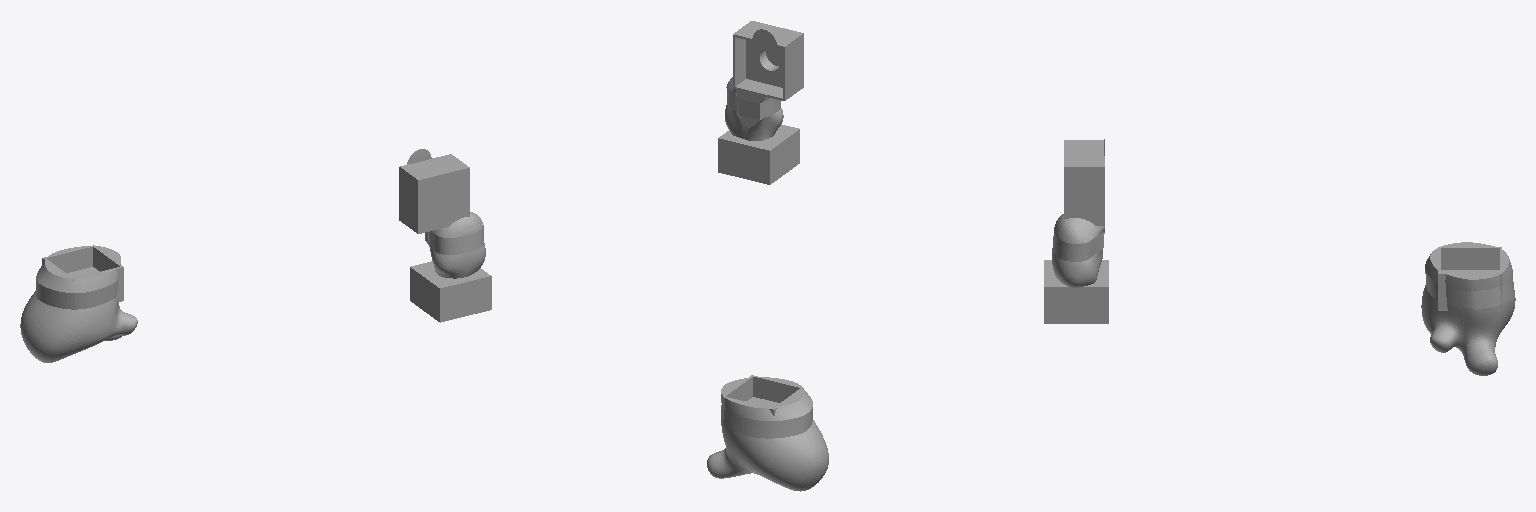
robot.urdf — FrogBot5_top-FrogBot5-x-3_bottom-FrogBot5-x-3:
<?xml version="1.0" ?>
<robot name="FrogBot5_top-FrogBot5-x-3_bottom-FrogBot5-x-3">

<material name="pla_5_percent_infill">
  <color rgba="0.700 0.700 0.700 1.000"/>
</material>

<link name="base_link">
  <inertial>
    <origin xyz="0 0 0" rpy="0 0 0"/>
    <mass value="1.4805118043364613"/>
    <inertia ixx="0.00519778244400068" iyy="0.011185972187213383" izz="0.012581059264896973" ixy="-0.0002102027550041139" iyz="-1.09064860282594e-05" ixz="-0.0008439426245005397"/>
  </inertial>
  <visual>
    <origin xyz="0 0 0" rpy="0 0 0"/>
    <geometry>
      <mesh filename="simple_meshes/base_link.stl" scale="0.001 0.001 0.001"/>
    </geometry>
    <material name="pla_5_percent_infill"/>
  </visual>
  <collision>
    <origin xyz="0 0 0" rpy="0 0 0"/>
    <geometry>
      <mesh filename="simple_meshes/base_link.stl" scale="0.001 0.001 0.001"/>
    </geometry>
  </collision>
</link>

<link name="body_1_0_1">
  <inertial>
    <origin xyz="-0.05492 -0.106321 -0.011198" rpy="0 0 0"/>
    <mass value="0.03364424865623392"/>
    <inertia ixx="2.810221627686535e-05" iyy="3.105295877244719e-05" izz="1.172707907315352e-05" ixy="-8.899568796976679e-08" iyz="-1.5742534297619263e-06" ixz="-9.501672050637216e-07"/>
  </inertial>
  <visual>
    <origin xyz="-0.05492 -0.106321 -0.011198" rpy="0 0 0"/>
    <geometry>
      <mesh filename="simple_meshes/body_1_0_1.stl" scale="0.001 0.001 0.001"/>
    </geometry>
    <material name="pla_5_percent_infill"/>
  </visual>
  <collision>
    <origin xyz="-0.05492 -0.106321 -0.011198" rpy="0 0 0"/>
    <geometry>
      <mesh filename="simple_meshes/body_1_0_1.stl" scale="0.001 0.001 0.001"/>
    </geometry>
  </collision>
</link>

<link name="body_1_1_1">
  <inertial>
    <origin xyz="0.058377 -0.106321 -0.025493" rpy="0 0 0"/>
    <mass value="0.055386682008832545"/>
    <inertia ixx="5.503816804401304e-05" iyy="7.660030718969509e-05" izz="3.7511075543319485e-05" ixy="-1.8953509892619819e-06" iyz="-9.234433829877323e-07" ixz="-2.4128808508134923e-05"/>
  </inertial>
  <visual>
    <origin xyz="0.058377 -0.106321 -0.025493" rpy="0 0 0"/>
    <geometry>
      <mesh filename="simple_meshes/body_1_1_1.stl" scale="0.001 0.001 0.001"/>
    </geometry>
    <material name="pla_5_percent_infill"/>
  </visual>
  <collision>
    <origin xyz="0.058377 -0.106321 -0.025493" rpy="0 0 0"/>
    <geometry>
      <mesh filename="simple_meshes/body_1_1_1.stl" scale="0.001 0.001 0.001"/>
    </geometry>
  </collision>
</link>

<link name="body_1_2_1">
  <inertial>
    <origin xyz="-0.053934 0.106321 -0.032331" rpy="0 0 0"/>
    <mass value="0.0478717264749201"/>
    <inertia ixx="5.273070058564979e-05" iyy="5.827233033588595e-05" izz="1.7176990096224882e-05" ixy="1.0654054540058366e-07" iyz="-4.390219921647764e-08" ixz="6.833719483090277e-06"/>
  </inertial>
  <visual>
    <origin xyz="-0.053934 0.106321 -0.032331" rpy="0 0 0"/>
    <geometry>
      <mesh filename="simple_meshes/body_1_2_1.stl" scale="0.001 0.001 0.001"/>
    </geometry>
    <material name="pla_5_percent_infill"/>
  </visual>
  <collision>
    <origin xyz="-0.053934 0.106321 -0.032331" rpy="0 0 0"/>
    <geometry>
      <mesh filename="simple_meshes/body_1_2_1.stl" scale="0.001 0.001 0.001"/>
    </geometry>
  </collision>
</link>

<link name="body_1_3_1">
  <inertial>
    <origin xyz="0.057483 0.106321 -0.032919" rpy="0 0 0"/>
    <mass value="0.05353403343969694"/>
    <inertia ixx="5.7470855631336836e-05" iyy="7.419945685828514e-05" izz="3.0092700329114588e-05" ixy="-6.361839731521815e-07" iyz="-1.961837102451786e-06" ixz="-2.1102398870029415e-05"/>
  </inertial>
  <visual>
    <origin xyz="0.057483 0.106321 -0.032919" rpy="0 0 0"/>
    <geometry>
      <mesh filename="simple_meshes/body_1_3_1.stl" scale="0.001 0.001 0.001"/>
    </geometry>
    <material name="pla_5_percent_infill"/>
  </visual>
  <collision>
    <origin xyz="0.057483 0.106321 -0.032919" rpy="0 0 0"/>
    <geometry>
      <mesh filename="simple_meshes/body_1_3_1.stl" scale="0.001 0.001 0.001"/>
    </geometry>
  </collision>
</link>

<link name="body_2_0_1">
  <inertial>
    <origin xyz="-0.051784 -0.143449 0.085454" rpy="0 0 0"/>
    <mass value="0.08081180341612688"/>
    <inertia ixx="8.434632849335308e-05" iyy="9.163908694770784e-05" izz="9.439009498105619e-05" ixy="-4.542318898368065e-06" iyz="3.91667741218675e-06" ixz="-1.9092176221770316e-06"/>
  </inertial>
  <visual>
    <origin xyz="-0.051784 -0.143449 0.085454" rpy="0 0 0"/>
    <geometry>
      <mesh filename="simple_meshes/body_2_0_1.stl" scale="0.001 0.001 0.001"/>
    </geometry>
    <material name="pla_5_percent_infill"/>
  </visual>
  <collision>
    <origin xyz="-0.051784 -0.143449 0.085454" rpy="0 0 0"/>
    <geometry>
      <mesh filename="simple_meshes/body_2_0_1.stl" scale="0.001 0.001 0.001"/>
    </geometry>
  </collision>
</link>

<link name="body_2_1_1">
  <inertial>
    <origin xyz="0.108798 -0.147527 0.085454" rpy="0 0 0"/>
    <mass value="0.09526802380583706"/>
    <inertia ixx="5.79173409884998e-05" iyy="7.820717924421914e-05" izz="7.352323603155436e-05" ixy="-2.324416707812733e-06" iyz="-3.677926162836201e-07" ixz="-2.8942263562807546e-06"/>
  </inertial>
  <visual>
    <origin xyz="0.108798 -0.147527 0.085454" rpy="0 0 0"/>
    <geometry>
      <mesh filename="simple_meshes/body_2_1_1.stl" scale="0.001 0.001 0.001"/>
    </geometry>
    <material name="pla_5_percent_infill"/>
  </visual>
  <collision>
    <origin xyz="0.108798 -0.147527 0.085454" rpy="0 0 0"/>
    <geometry>
      <mesh filename="simple_meshes/body_2_1_1.stl" scale="0.001 0.001 0.001"/>
    </geometry>
  </collision>
</link>

<link name="body_2_2_1">
  <inertial>
    <origin xyz="-0.065031 0.147225 0.085454" rpy="0 0 0"/>
    <mass value="0.07981431579079984"/>
    <inertia ixx="8.269785829753684e-05" iyy="8.106529422609093e-05" izz="8.688430076009236e-05" ixy="6.0037065138342834e-06" iyz="-2.6821991034545883e-06" ixz="-4.379802667897744e-06"/>
  </inertial>
  <visual>
    <origin xyz="-0.065031 0.147225 0.085454" rpy="0 0 0"/>
    <geometry>
      <mesh filename="simple_meshes/body_2_2_1.stl" scale="0.001 0.001 0.001"/>
    </geometry>
    <material name="pla_5_percent_infill"/>
  </visual>
  <collision>
    <origin xyz="-0.065031 0.147225 0.085454" rpy="0 0 0"/>
    <geometry>
      <mesh filename="simple_meshes/body_2_2_1.stl" scale="0.001 0.001 0.001"/>
    </geometry>
  </collision>
</link>

<link name="body_2_3_1">
  <inertial>
    <origin xyz="0.101339 0.151086 0.085454" rpy="0 0 0"/>
    <mass value="0.10609226380929027"/>
    <inertia ixx="7.339485531371748e-05" iyy="0.00010379518151416205" izz="8.605498543540853e-05" ixy="7.114993024958608e-07" iyz="-3.025321169282391e-06" ixz="3.3034892705460263e-06"/>
  </inertial>
  <visual>
    <origin xyz="0.101339 0.151086 0.085454" rpy="0 0 0"/>
    <geometry>
      <mesh filename="simple_meshes/body_2_3_1.stl" scale="0.001 0.001 0.001"/>
    </geometry>
    <material name="pla_5_percent_infill"/>
  </visual>
  <collision>
    <origin xyz="0.101339 0.151086 0.085454" rpy="0 0 0"/>
    <geometry>
      <mesh filename="simple_meshes/body_2_3_1.stl" scale="0.001 0.001 0.001"/>
    </geometry>
  </collision>
</link>

<joint name="joint_1_0" type="revolute">
  <origin xyz="0.05492 0.106321 0.011198" rpy="0 0 0"/>
  <parent link="base_link"/>
  <child link="body_1_0_1"/>
  <axis xyz="1.0 0.0 0.0"/>
  <limit upper="1.2" lower="-1.2" effort="3.8" velocity="5.4"/>
</joint>
<transmission name="joint_1_0_tran">
  <type>transmission_interface/SimpleTransmission</type>
  <joint name="joint_1_0">
    <hardwareInterface>PositionJointInterface</hardwareInterface>
  </joint>
  <actuator name="joint_1_0_actr">
    <hardwareInterface>PositionJointInterface</hardwareInterface>
    <mechanicalReduction>1</mechanicalReduction>
  </actuator>
</transmission>

<joint name="joint_1_1" type="revolute">
  <origin xyz="-0.058377 0.106321 0.025493" rpy="0 0 0"/>
  <parent link="base_link"/>
  <child link="body_1_1_1"/>
  <axis xyz="1.0 0.0 0.0"/>
  <limit upper="1.2" lower="-1.2" effort="3.8" velocity="5.4"/>
</joint>
<transmission name="joint_1_1_tran">
  <type>transmission_interface/SimpleTransmission</type>
  <joint name="joint_1_1">
    <hardwareInterface>PositionJointInterface</hardwareInterface>
  </joint>
  <actuator name="joint_1_1_actr">
    <hardwareInterface>PositionJointInterface</hardwareInterface>
    <mechanicalReduction>1</mechanicalReduction>
  </actuator>
</transmission>

<joint name="joint_1_2" type="revolute">
  <origin xyz="0.053934 -0.106321 0.032331" rpy="0 0 0"/>
  <parent link="base_link"/>
  <child link="body_1_2_1"/>
  <axis xyz="1.0 0.0 0.0"/>
  <limit upper="1.2" lower="-1.2" effort="3.8" velocity="5.4"/>
</joint>
<transmission name="joint_1_2_tran">
  <type>transmission_interface/SimpleTransmission</type>
  <joint name="joint_1_2">
    <hardwareInterface>PositionJointInterface</hardwareInterface>
  </joint>
  <actuator name="joint_1_2_actr">
    <hardwareInterface>PositionJointInterface</hardwareInterface>
    <mechanicalReduction>1</mechanicalReduction>
  </actuator>
</transmission>

<joint name="joint_1_3" type="revolute">
  <origin xyz="-0.057483 -0.106321 0.032919" rpy="0 0 0"/>
  <parent link="base_link"/>
  <child link="body_1_3_1"/>
  <axis xyz="1.0 0.0 0.0"/>
  <limit upper="1.2" lower="-1.2" effort="3.8" velocity="5.4"/>
</joint>
<transmission name="joint_1_3_tran">
  <type>transmission_interface/SimpleTransmission</type>
  <joint name="joint_1_3">
    <hardwareInterface>PositionJointInterface</hardwareInterface>
  </joint>
  <actuator name="joint_1_3_actr">
    <hardwareInterface>PositionJointInterface</hardwareInterface>
    <mechanicalReduction>1</mechanicalReduction>
  </actuator>
</transmission>

<joint name="joint_2_0" type="revolute">
  <origin xyz="-0.003136 0.037128 -0.096652" rpy="0 0 0"/>
  <parent link="body_1_0_1"/>
  <child link="body_2_0_1"/>
  <axis xyz="1.0 0.0 0.0"/>
  <limit upper="1.2" lower="-1.2" effort="3.8" velocity="5.4"/>
</joint>
<transmission name="joint_2_0_tran">
  <type>transmission_interface/SimpleTransmission</type>
  <joint name="joint_2_0">
    <hardwareInterface>PositionJointInterface</hardwareInterface>
  </joint>
  <actuator name="joint_2_0_actr">
    <hardwareInterface>PositionJointInterface</hardwareInterface>
    <mechanicalReduction>1</mechanicalReduction>
  </actuator>
</transmission>

<joint name="joint_2_1" type="revolute">
  <origin xyz="-0.050421 0.041206 -0.110947" rpy="0 0 0"/>
  <parent link="body_1_1_1"/>
  <child link="body_2_1_1"/>
  <axis xyz="1.0 0.0 0.0"/>
  <limit upper="1.2" lower="-1.2" effort="3.8" velocity="5.4"/>
</joint>
<transmission name="joint_2_1_tran">
  <type>transmission_interface/SimpleTransmission</type>
  <joint name="joint_2_1">
    <hardwareInterface>PositionJointInterface</hardwareInterface>
  </joint>
  <actuator name="joint_2_1_actr">
    <hardwareInterface>PositionJointInterface</hardwareInterface>
    <mechanicalReduction>1</mechanicalReduction>
  </actuator>
</transmission>

<joint name="joint_2_2" type="revolute">
  <origin xyz="0.011097 -0.040904 -0.117785" rpy="0 0 0"/>
  <parent link="body_1_2_1"/>
  <child link="body_2_2_1"/>
  <axis xyz="1.0 0.0 0.0"/>
  <limit upper="1.2" lower="-1.2" effort="3.8" velocity="5.4"/>
</joint>
<transmission name="joint_2_2_tran">
  <type>transmission_interface/SimpleTransmission</type>
  <joint name="joint_2_2">
    <hardwareInterface>PositionJointInterface</hardwareInterface>
  </joint>
  <actuator name="joint_2_2_actr">
    <hardwareInterface>PositionJointInterface</hardwareInterface>
    <mechanicalReduction>1</mechanicalReduction>
  </actuator>
</transmission>

<joint name="joint_2_3" type="revolute">
  <origin xyz="-0.043856 -0.044765 -0.118373" rpy="0 0 0"/>
  <parent link="body_1_3_1"/>
  <child link="body_2_3_1"/>
  <axis xyz="1.0 0.0 0.0"/>
  <limit upper="1.2" lower="-1.2" effort="3.8" velocity="5.4"/>
</joint>
<transmission name="joint_2_3_tran">
  <type>transmission_interface/SimpleTransmission</type>
  <joint name="joint_2_3">
    <hardwareInterface>PositionJointInterface</hardwareInterface>
  </joint>
  <actuator name="joint_2_3_actr">
    <hardwareInterface>PositionJointInterface</hardwareInterface>
    <mechanicalReduction>1</mechanicalReduction>
  </actuator>
</transmission>

</robot>

--- Facts derived from the render (not from the file) ---
Views: 3 orthographic renders of the robot side by side, from view 1: azimuth 30°, elevation 25°; view 2: azimuth 150°, elevation 25°; view 3: azimuth 270°, elevation 25°.
Robot: FrogBot5_top-FrogBot5-x-3_bottom-FrogBot5-x-3 — 9 links, 8 joints (8 revolute); root link base_link; default pose: every joint at zero.
Links seen in each view (by area): view 1: body_1_2_1, body_2_1_1; view 2: body_1_2_1, body_2_1_1; view 3: body_1_2_1, body_2_1_1.
Link boxes in pixels (left/top/right/bottom): body_1_2_1: left=399, top=149, right=491, bottom=322; body_2_1_1: left=20, top=245, right=137, bottom=362; body_1_2_1: left=718, top=21, right=803, bottom=184; body_2_1_1: left=707, top=375, right=828, bottom=491; body_1_2_1: left=1044, top=139, right=1108, bottom=323; body_2_1_1: left=1421, top=242, right=1515, bottom=375.
Bounding box of the posed robot: 0.2584 × 0.3529 × 0.2542 m (x, y, z).
Meshes: 9 distinct files referenced, 2 mesh visuals loaded (2 binary STL); not drawn: 7 (reference not matched to a file when rendering).